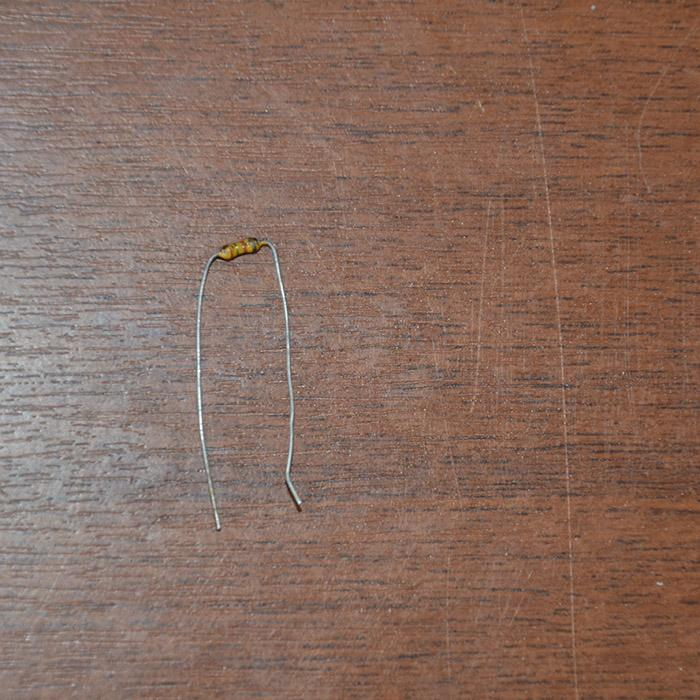resistor: (217, 237, 261, 260)
